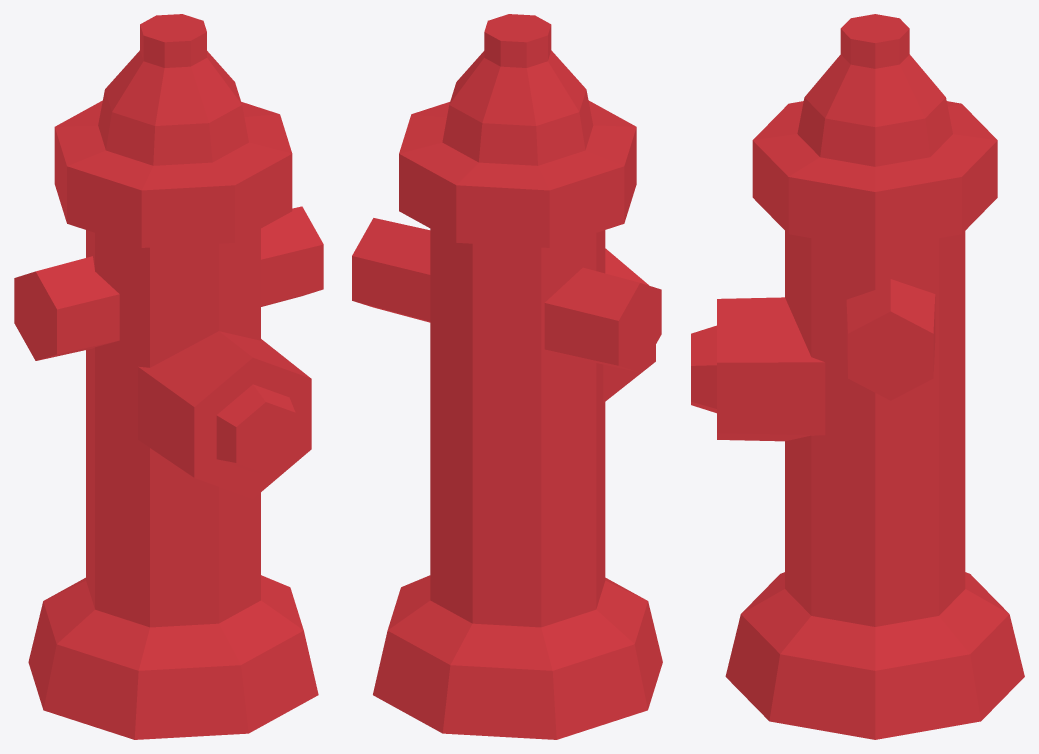
Rendered from fire-hydrant.glb.
3 views of the same model, side by side, from view 1: azimuth 30°, elevation 25°; view 2: azimuth 150°, elevation 25°; view 3: azimuth 270°, elevation 25° (orthographic).
Parts seen in each view (by area): view 1: fire-hydrant; view 2: fire-hydrant; view 3: fire-hydrant.
Part boxes in pixels (<box>): fire-hydrant: <box>14,14,323,739</box>; fire-hydrant: <box>352,14,662,739</box>; fire-hydrant: <box>691,14,1024,739</box>.
Bounding box in the file's own units: 0.3338 × 0.778 × 0.3632.
1 material, 1 textured.
